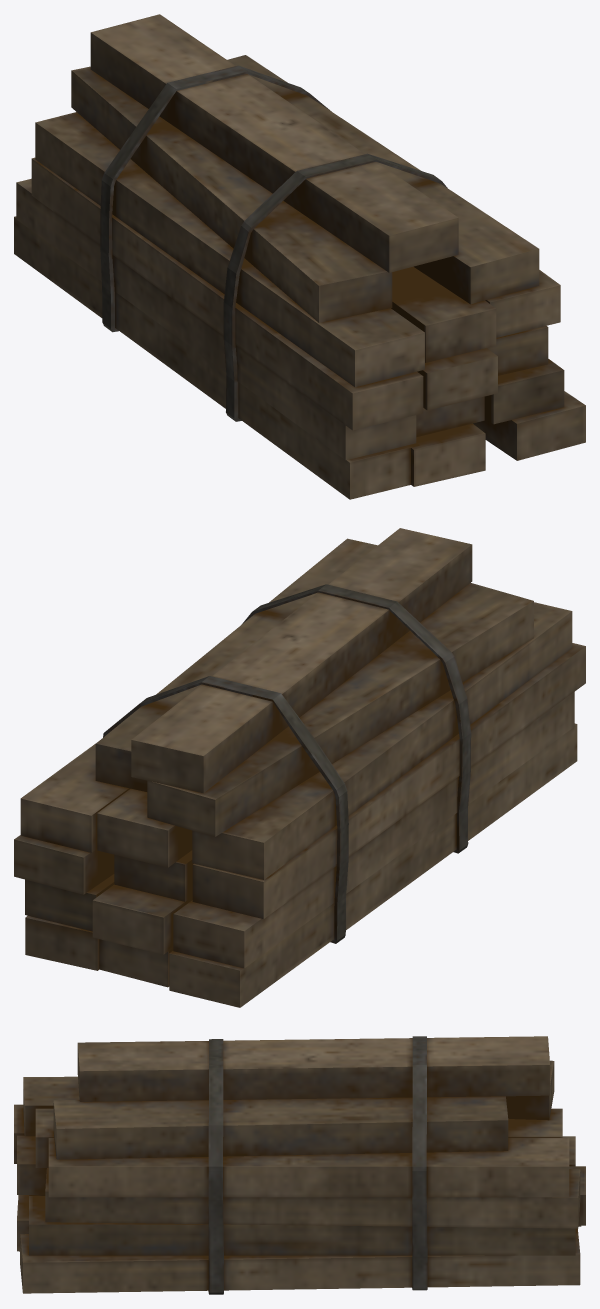
The model's file is Pile of Wood 1.fbx.
3 renders of one model, top to bottom at view 1: azimuth 30°, elevation 25°; view 2: azimuth 150°, elevation 25°; view 3: azimuth 270°, elevation 25°, orthographic. The views are drawn at different scales.
Parts seen in each view (by area): view 1: Cube.014; view 2: Cube.014; view 3: Cube.014.
Boxes of the visible parts, x1,y1,x2,y2 form: Cube.014: [14, 14, 585, 499]; Cube.014: [14, 528, 585, 1007]; Cube.014: [14, 1036, 585, 1294].
Size of the model in its own units: 103 by 92.62 by 253.
